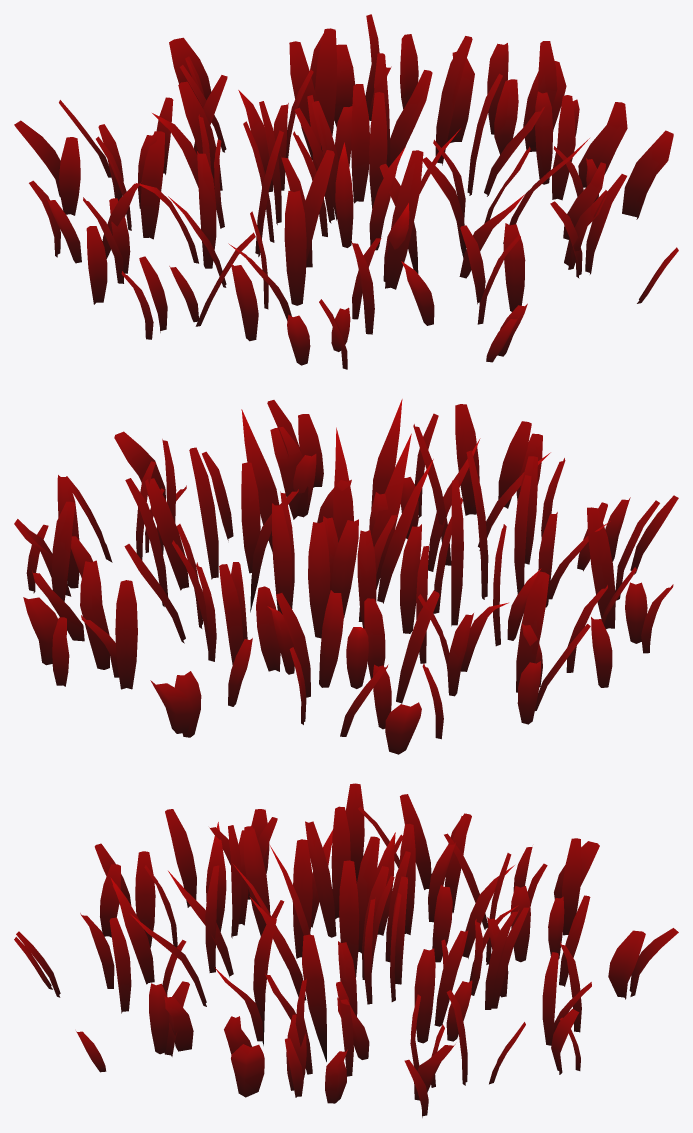
The model's file is SquareGrassUnity.fbx.
3 renders of one model, top to bottom at view 1: azimuth 30°, elevation 25°; view 2: azimuth 150°, elevation 25°; view 3: azimuth 270°, elevation 25°, orthographic. The views are drawn at different scales.
Visible parts, largest first — view 1: Grass; view 2: Grass; view 3: Grass.
Part boxes in pixels (x1=…): Grass: x1=14, y1=14, x2=678, y2=369; Grass: x1=14, y1=399, x2=678, y2=754; Grass: x1=14, y1=783, x2=678, y2=1117.
Bounding box in the file's own units: 605 × 178 × 684.
